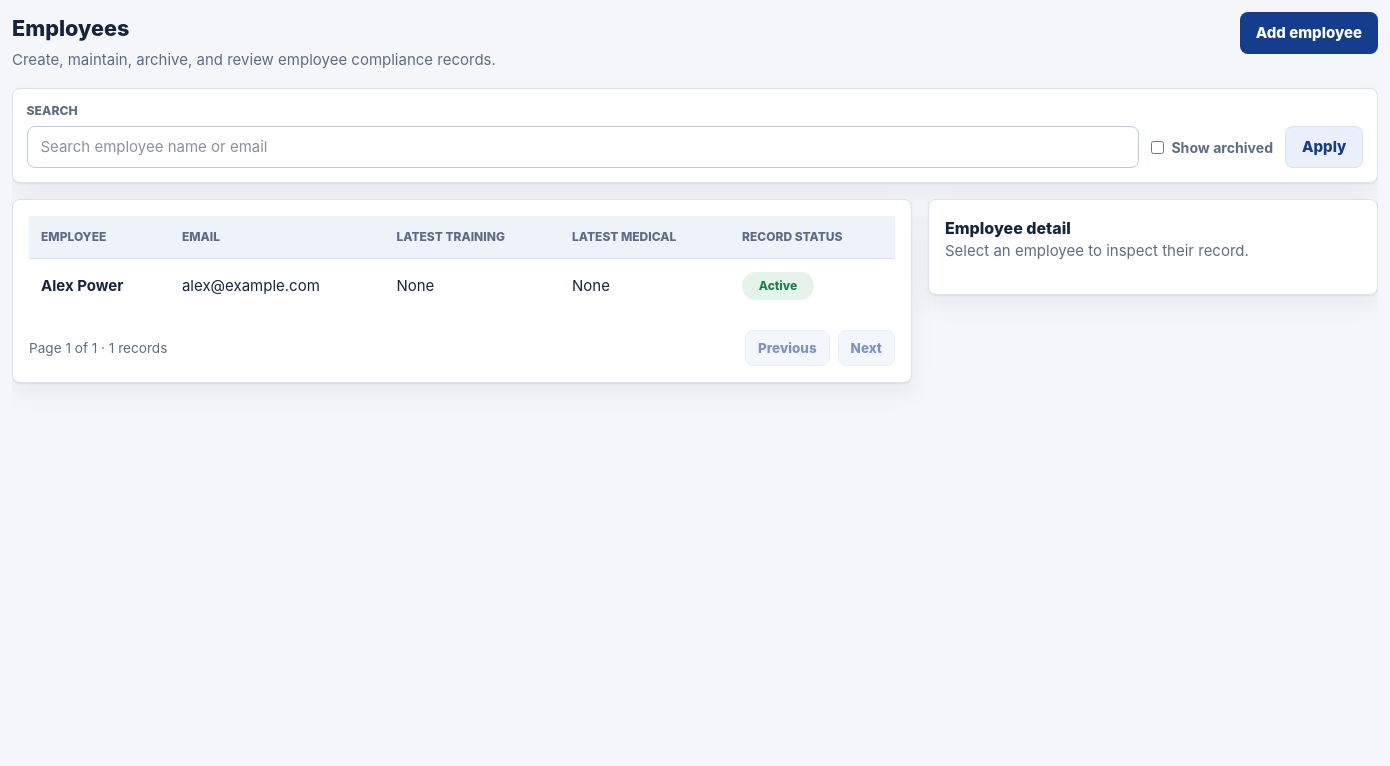
Test: ManageEmployees › renders separate pending-date sections with direct add-date links
The image size is (1390, 766).
Click the row "Alex Power alex@example.com None None Active".
click(82, 286)  # box [29,258,895,314]
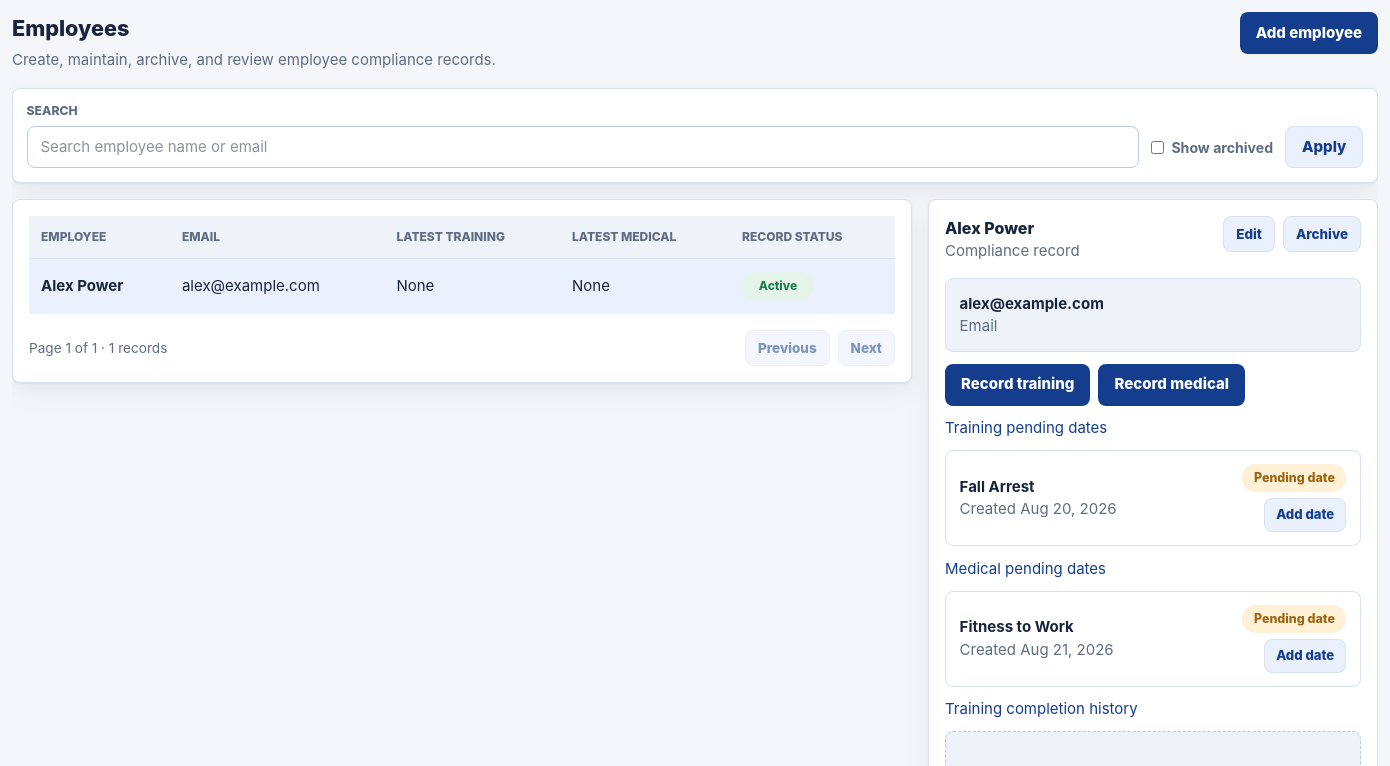
Now the text "Training pending dates" is shown, box [945,418,1107,437]
Now the text "Medical pending dates" is shown, box [945,559,1106,578]
Now the text "Fall Arrest" is shown, box [960,476,1034,496]
